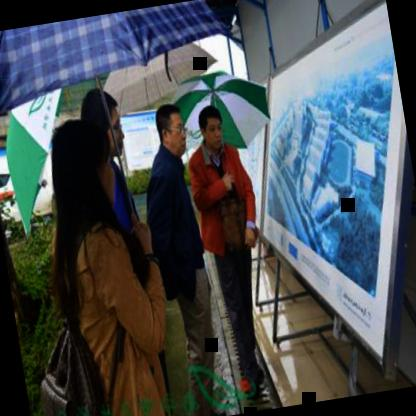head: (38, 112, 119, 222), (78, 86, 127, 162), (148, 98, 192, 162), (194, 102, 230, 156)
